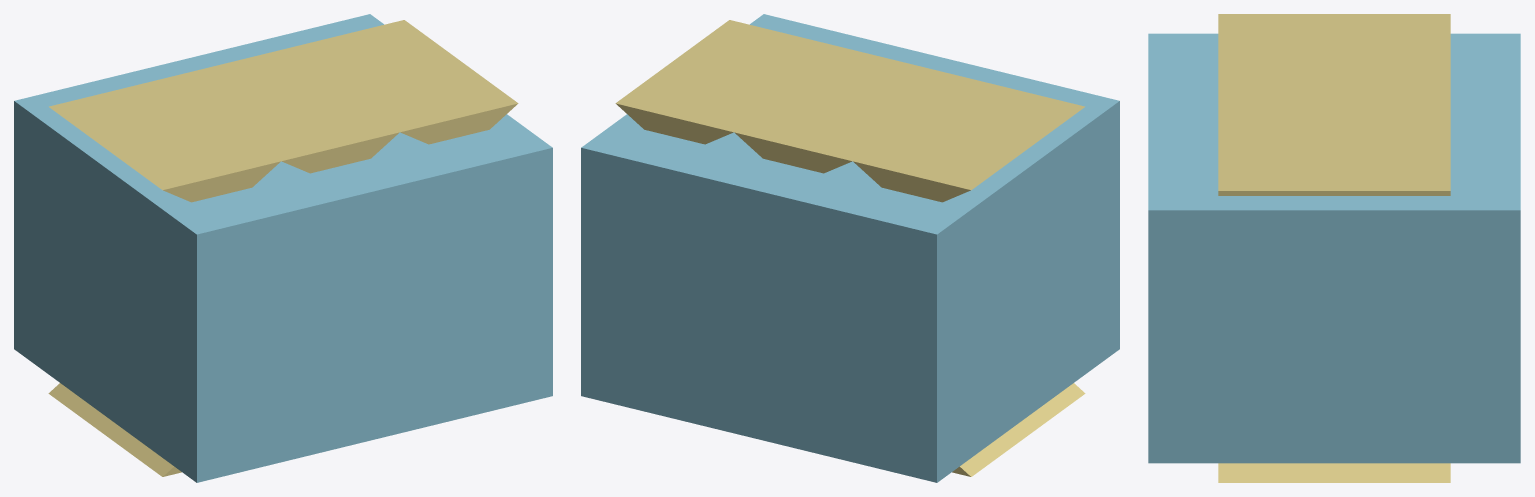
File: crush_ribs_demo.glb
3 views of the same model, side by side, from view 1: azimuth 30°, elevation 25°; view 2: azimuth 150°, elevation 25°; view 3: azimuth 270°, elevation 25° (orthographic).
Visible parts, largest first — view 1: component_reference, tapered_ribs; view 2: component_reference, tapered_ribs; view 3: component_reference, tapered_ribs.
Part boxes in pixels (x1,y1,x2,y2): component_reference: (14, 14, 552, 482); tapered_ribs: (48, 20, 518, 476); component_reference: (581, 14, 1119, 482); tapered_ribs: (615, 20, 1085, 476); component_reference: (1148, 33, 1520, 463); tapered_ribs: (1218, 14, 1450, 482).
Bounding box in the file's own units: 18 × 13.86 × 16.
